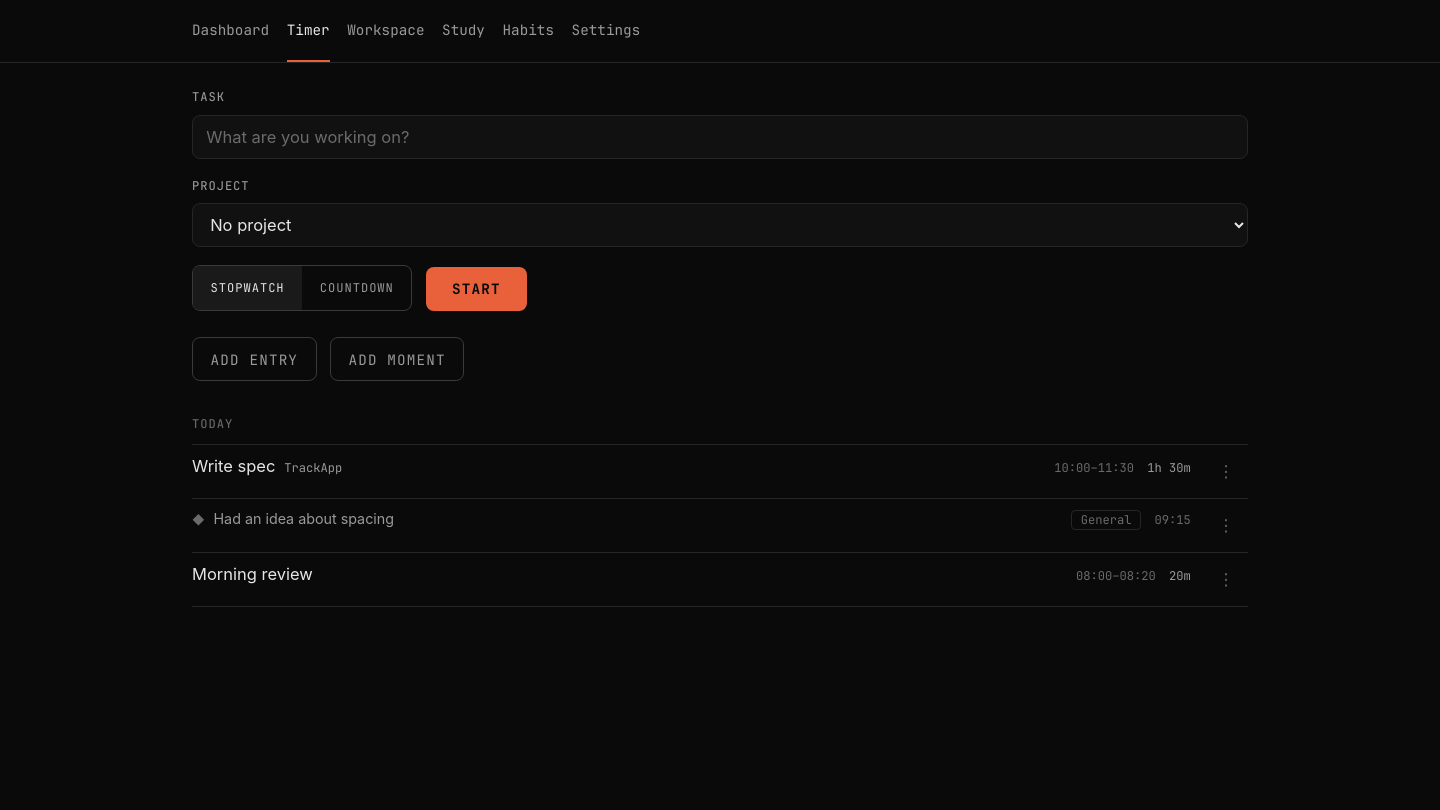
Test: editing times on logged rows › refuses an end before the start and leaves the entry alone
Click the button named "More Morning review". click: (1226,579)
box: [1204,562,1248,597]
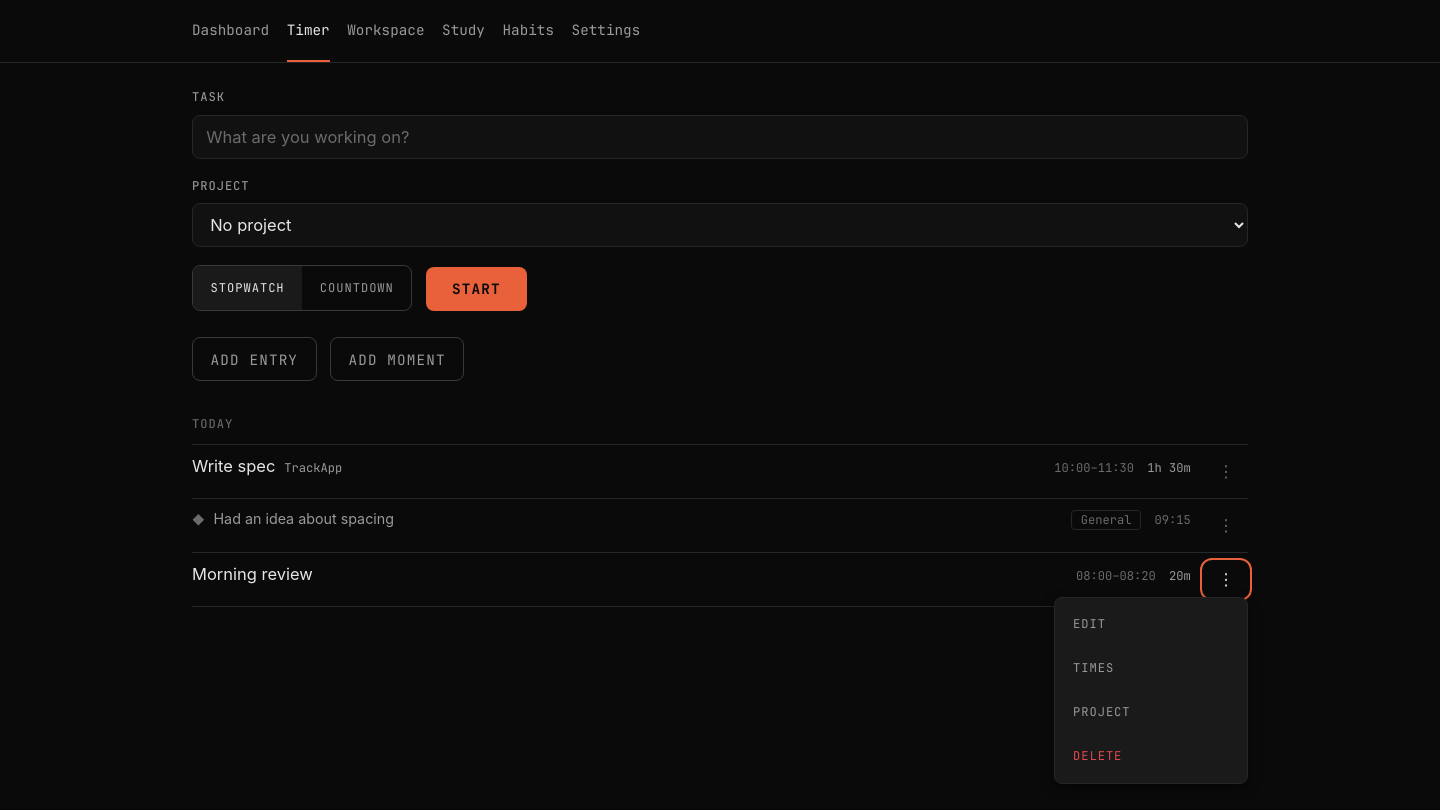
Click the button "Times". click: (1151,668)
box: [1060,646,1243,690]
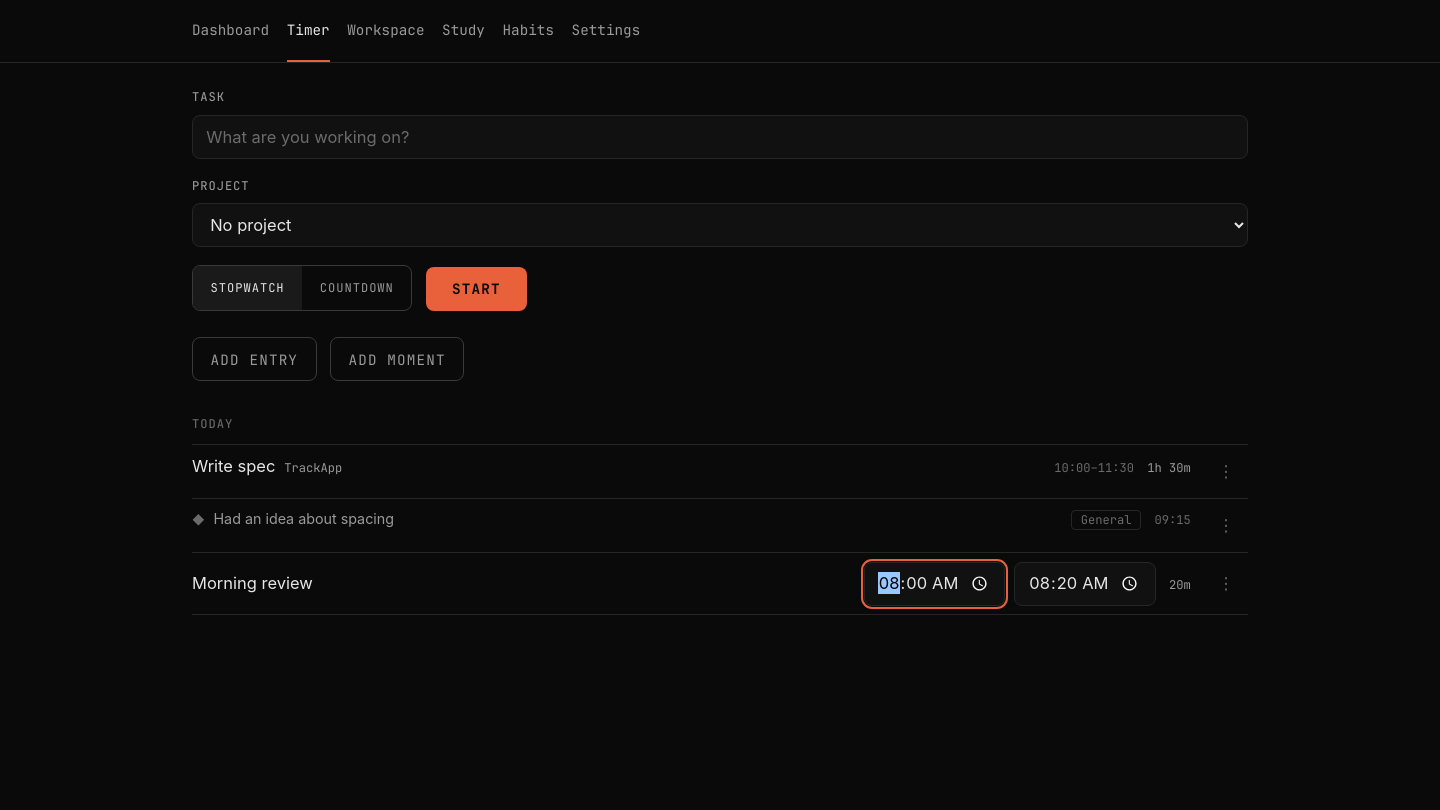
Replace the text in the time field named "start time" with "10:00". click: (935,584)
box: [864,562,1005,606]
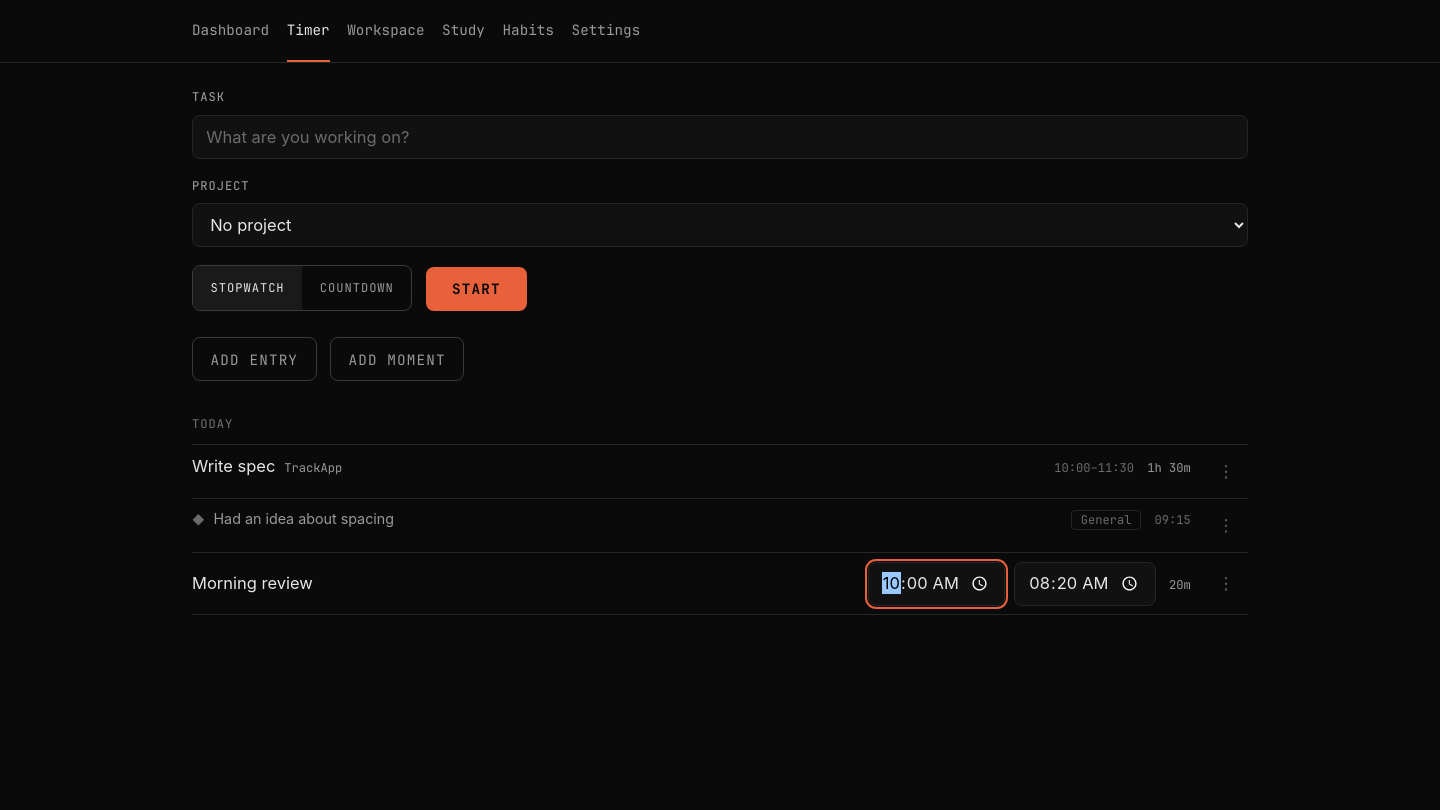
Replace the text in the time field named "end time" with "09:00". click: (1085,584)
box: [1014,562,1156,606]
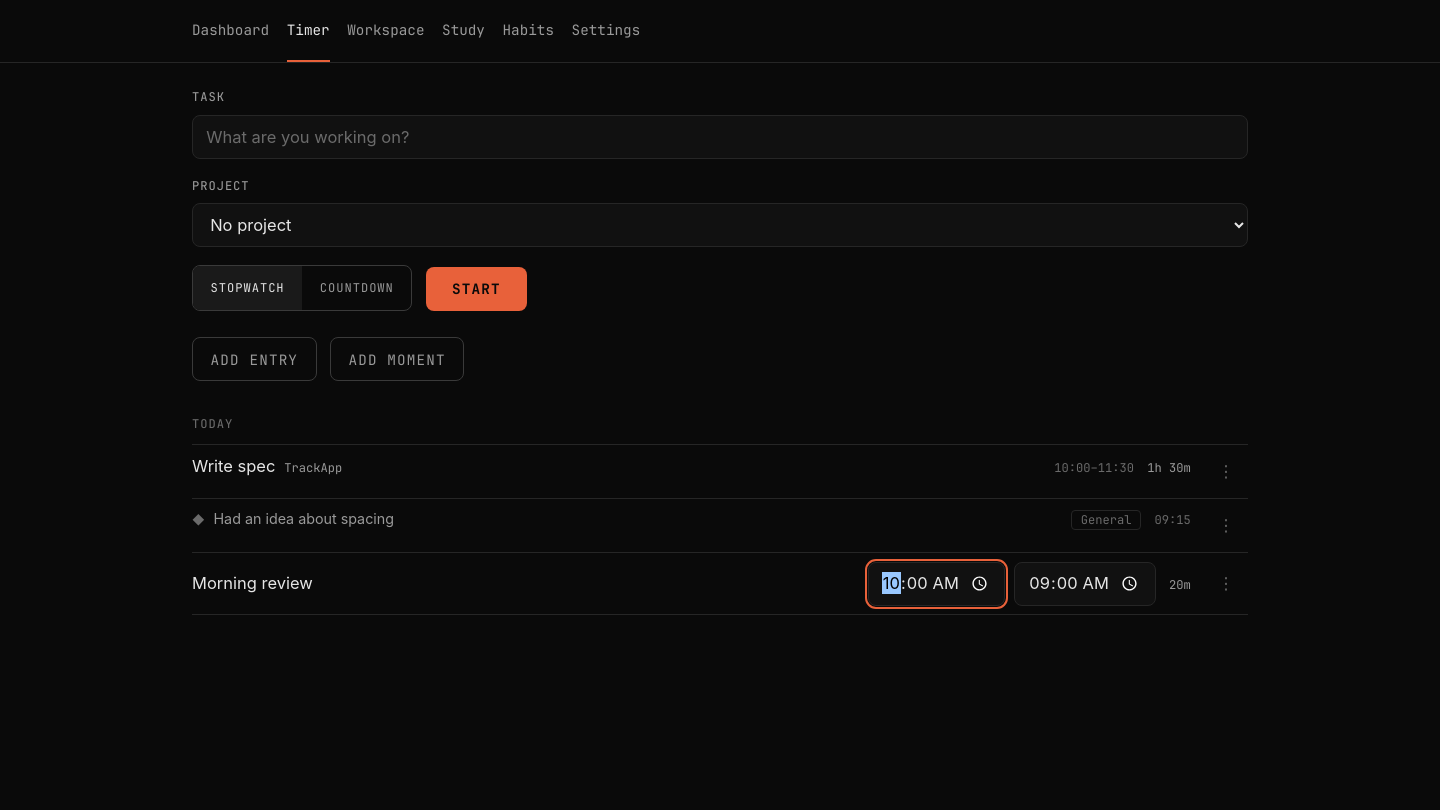
Leave the time field named "end time", box [1014,562,1156,606]
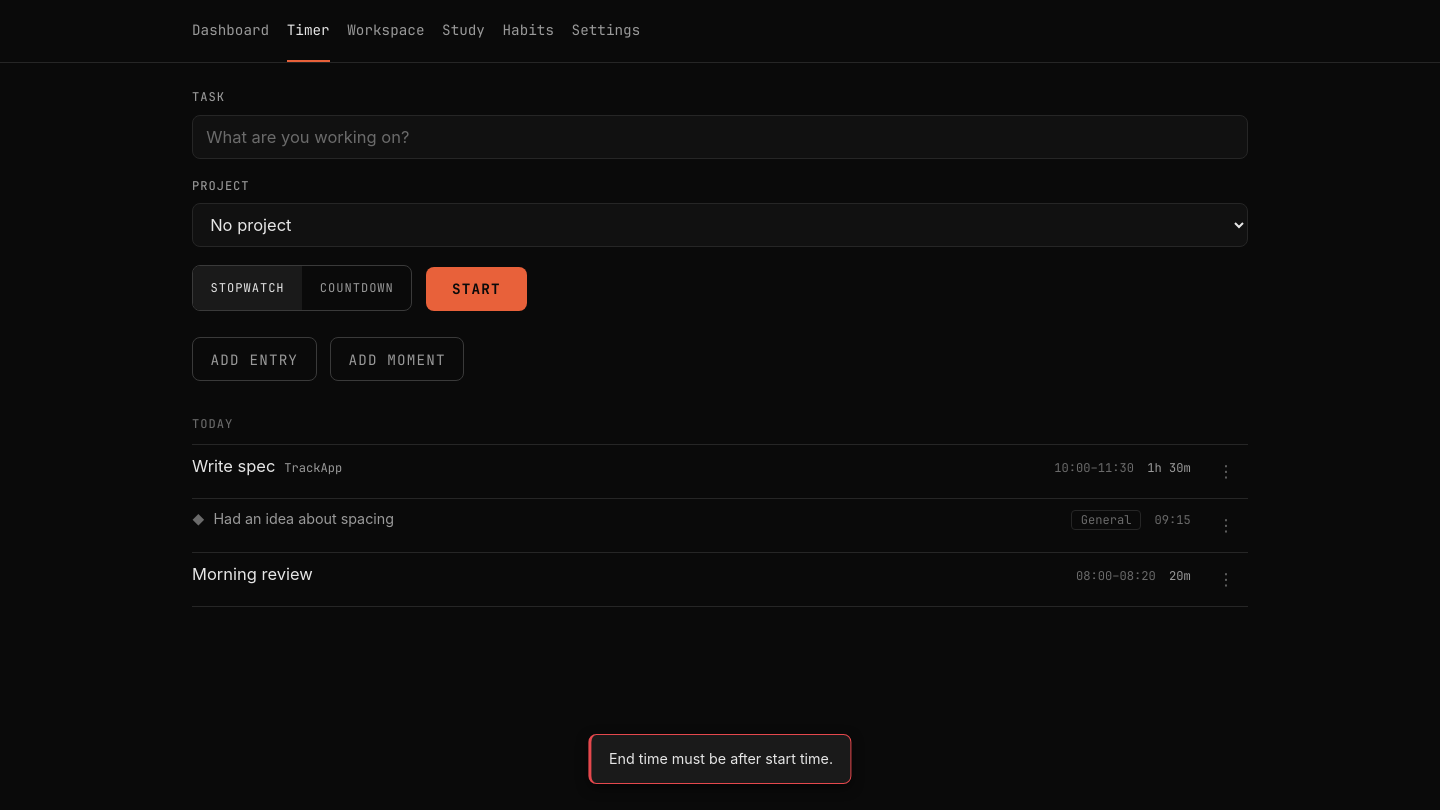
Now the text "End time must be after start time." is shown, box [588,734,852,784]
